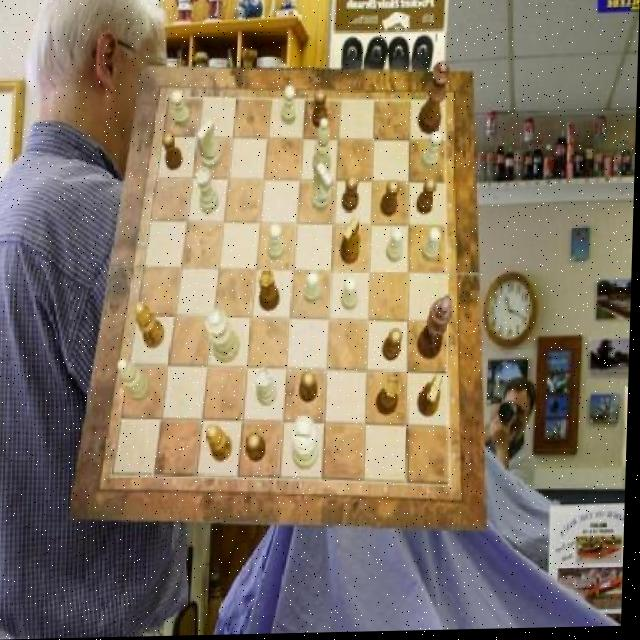bishop: (136, 303, 167, 349), (208, 425, 235, 463)
black-bishop: (418, 298, 455, 363)
black-king: (419, 377, 445, 420), (340, 220, 361, 266)
black-knight: (162, 132, 183, 171), (416, 180, 437, 217), (380, 182, 400, 219), (384, 331, 405, 364), (311, 91, 328, 130), (342, 178, 360, 214), (300, 373, 320, 405), (248, 435, 268, 463)
black-pawn: (416, 63, 451, 137)
black-queen: (259, 270, 283, 313), (379, 379, 404, 417)
black-rook: (118, 358, 153, 402), (312, 119, 333, 177)
white-bishop: (292, 416, 321, 471)
white-king: (198, 121, 223, 172), (312, 164, 333, 213)
white-knight: (422, 132, 443, 173), (171, 90, 192, 128), (421, 231, 442, 265), (281, 87, 298, 128), (269, 224, 287, 262), (341, 278, 360, 313), (386, 228, 404, 263), (305, 273, 323, 305)
white-pawn: (205, 308, 242, 363)
white-queen: (196, 168, 220, 216), (256, 369, 279, 408)
